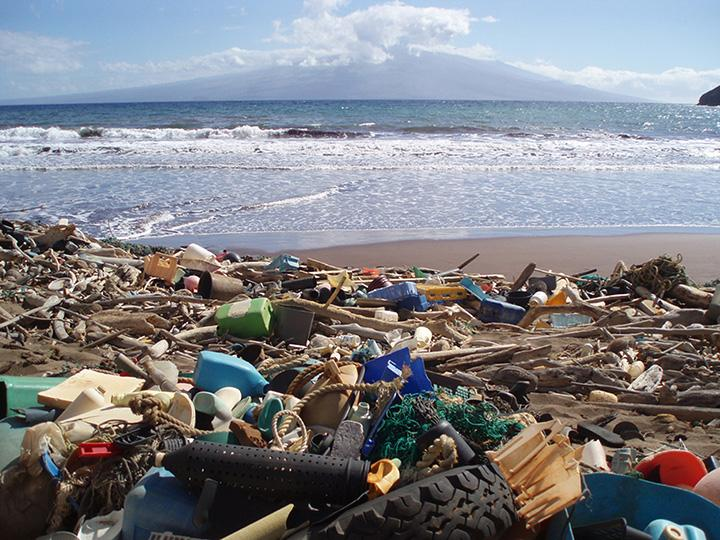garbage: (0, 220, 720, 540)
